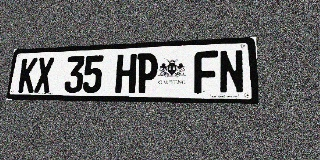3: (64, 56, 85, 93)
5: (82, 55, 104, 93)
F: (194, 50, 218, 94)
H: (115, 54, 137, 93)
K: (18, 58, 38, 93)
N: (219, 49, 245, 94)
P: (136, 53, 158, 93)
X: (34, 57, 54, 93)
